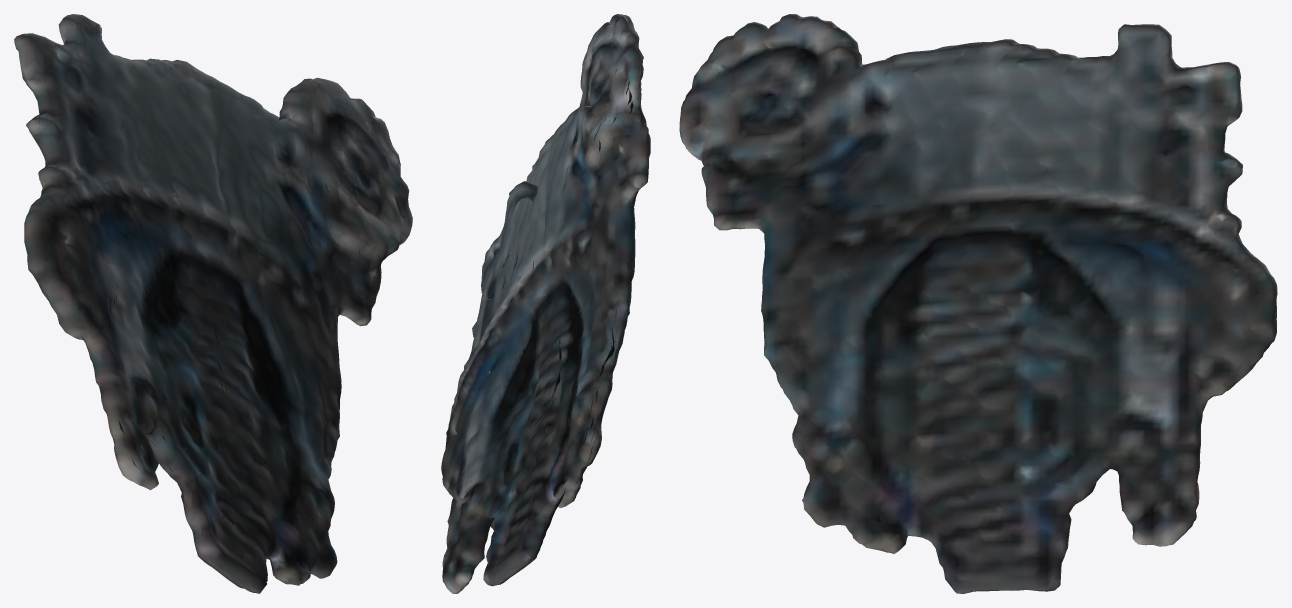
Rendered from reducer.glb.
3 views of the same model, side by side, from view 1: azimuth 30°, elevation 25°; view 2: azimuth 150°, elevation 25°; view 3: azimuth 270°, elevation 25° (orthographic). The views are drawn at different scales.
Visible parts, largest first — view 1: geometry_0; view 2: geometry_0; view 3: geometry_0.
Part boxes in pixels (left/top/right/bottom): geometry_0: left=14, top=14, right=412, bottom=593; geometry_0: left=441, top=14, right=650, bottom=593; geometry_0: left=679, top=14, right=1277, bottom=593.
Bounding box in the file's own units: 0.2291 × 0.9937 × 0.9382.
